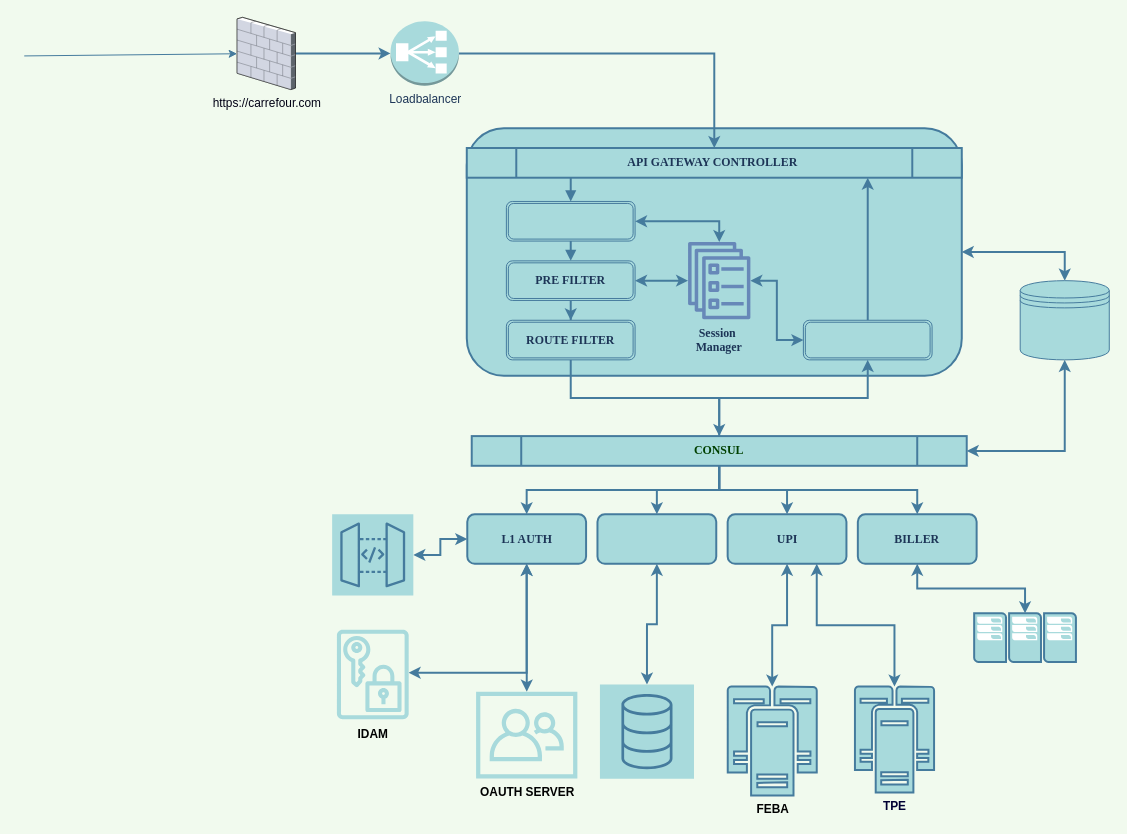
This 1127x834 diagram has some shape labels left out. The shapes that lost their labels are listed below. From the top down, each one's box as (x1, y1, x2, y2) in pixels, then its label:
(505, 200, 635, 241): SECURITY FILTER
(802, 319, 932, 360): POST FILTER
(1019, 280, 1109, 360): Redis
(331, 513, 413, 595): SECO
(596, 513, 717, 564): L2 AUTH
(973, 612, 1076, 663): BBPS
